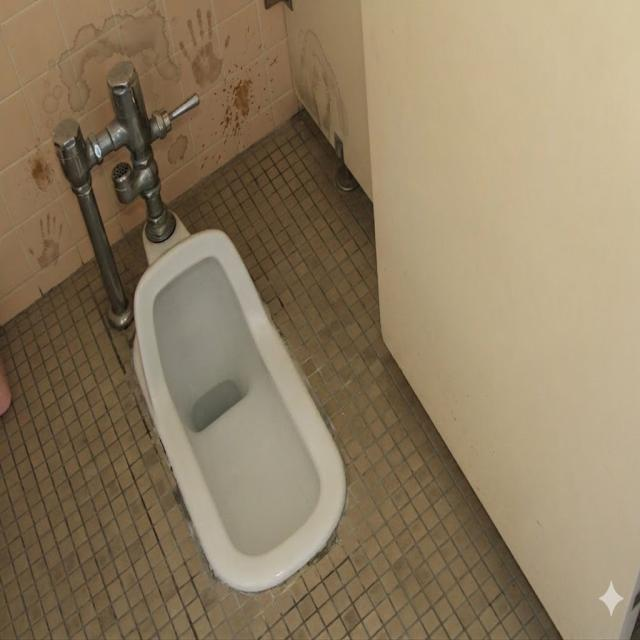dirty_area: (16, 0, 288, 306), (284, 16, 364, 171)
